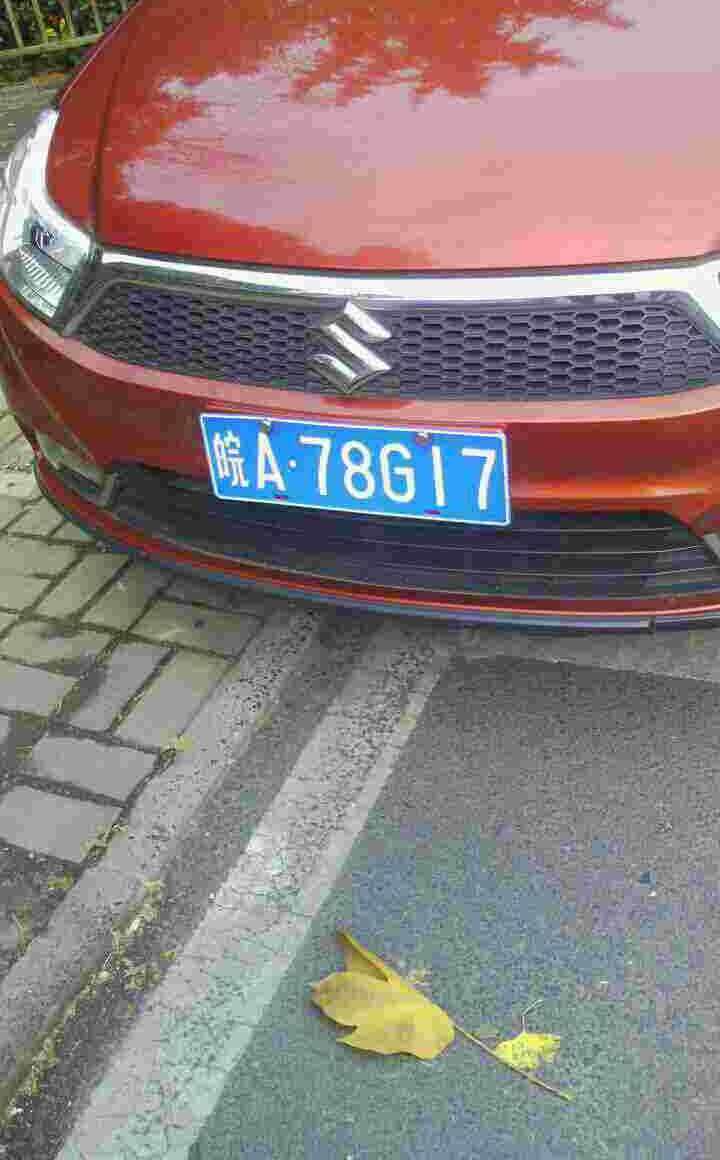license_plate: (192, 421, 520, 521)
